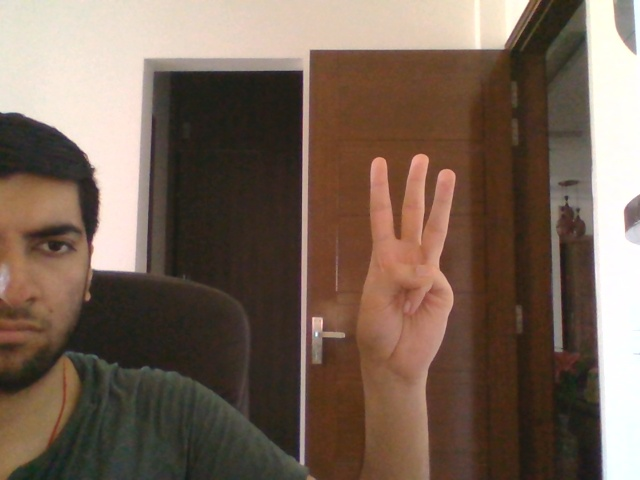LetterW: (353, 150, 457, 388)
